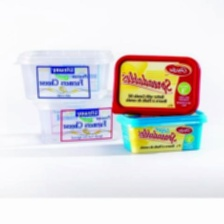plastic_box: (11, 40, 121, 107), (107, 48, 205, 119), (110, 102, 212, 158), (29, 91, 122, 148)
